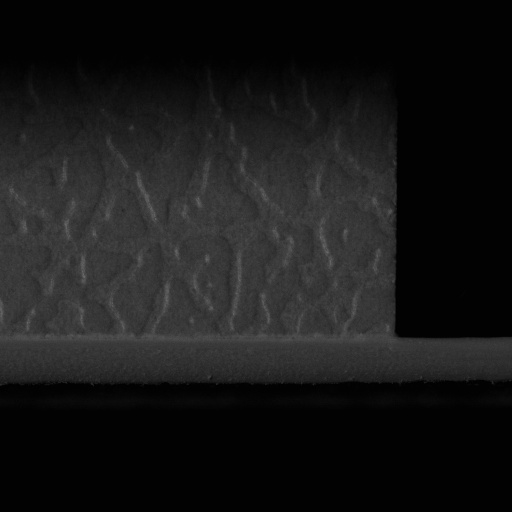bengque: (392, 332, 511, 385)
